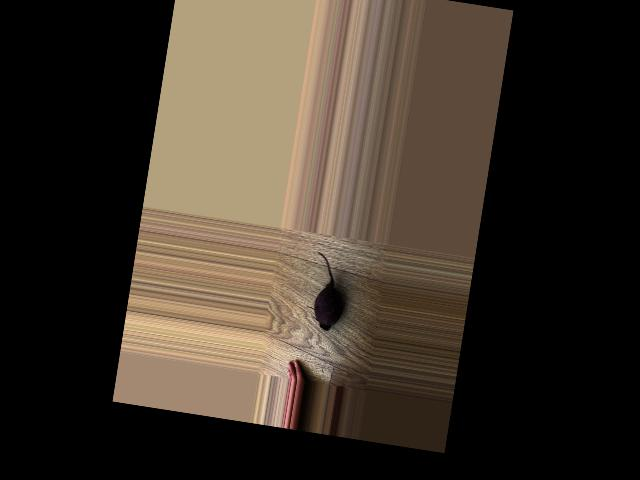beet: (304, 251, 350, 331)
